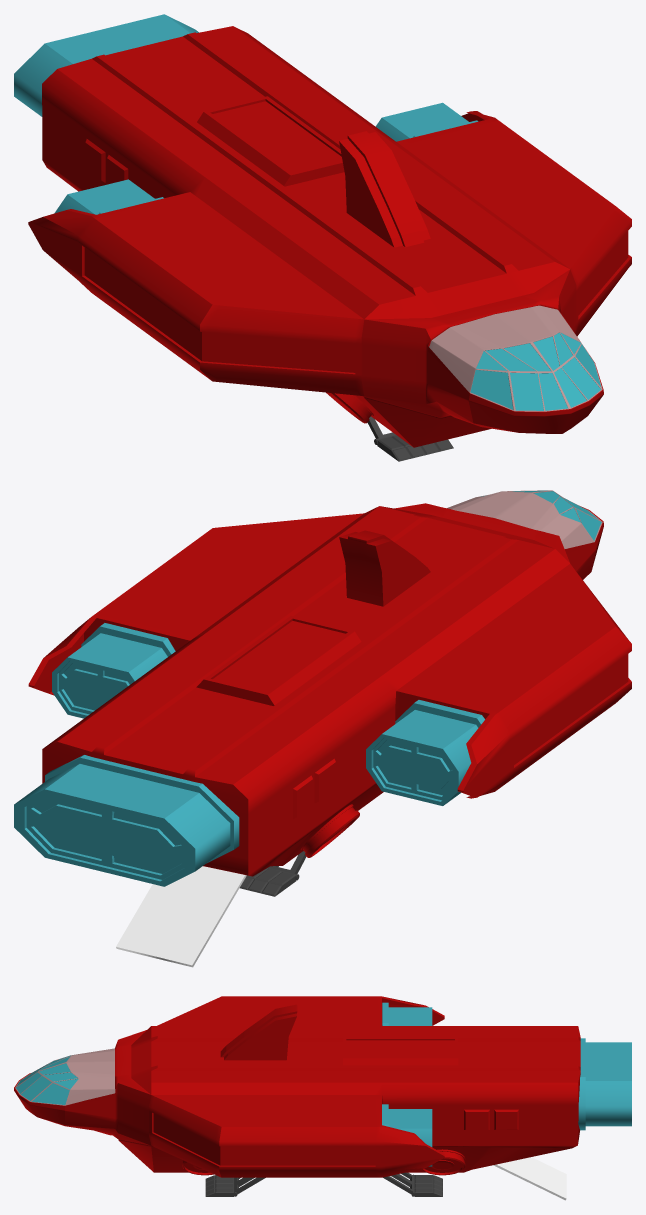
File: SCPs-Wonderer .fbx
3 renders of one model, top to bottom at view 1: azimuth 30°, elevation 25°; view 2: azimuth 150°, elevation 25°; view 3: azimuth 270°, elevation 25°, orthographic. The views are drawn at different scales.
Visible parts, largest first — view 1: transform544, polySurface381, polySurface356.001, polySurface289, polySurface382, polySurface383, pCube200; view 2: transform544, polySurface289, polySurface383, polySurface330.001, polySurface382, polySurface356.001, polySurface381, pCube205; view 3: transform544, polySurface289, polySurface356.001, polySurface381, polySurface330.001, polySurface382, polySurface383, pCube205, pCube200, pCylinder77, pCylinder75.
Boxes of the visible parts, box(x1,y1,x2,y2) form: transform544: box(28, 26, 631, 447); polySurface381: box(470, 332, 601, 410); polySurface356.001: box(429, 305, 602, 411); polySurface289: box(14, 14, 198, 116); polySurface382: box(375, 102, 478, 141); polySurface383: box(54, 179, 163, 214); pCube200: box(377, 435, 453, 461); transform544: box(28, 503, 631, 876); polySurface289: box(14, 755, 239, 886); polySurface383: box(366, 700, 484, 805); polySurface330.001: box(116, 866, 246, 967); polySurface382: box(52, 623, 175, 718); polySurface356.001: box(447, 490, 602, 548); polySurface381: box(481, 490, 601, 540); pCube205: box(240, 868, 296, 896); transform544: box(14, 996, 580, 1177); polySurface289: box(578, 1038, 631, 1130); polySurface356.001: box(15, 1048, 115, 1105); polySurface381: box(16, 1055, 78, 1104); polySurface330.001: box(493, 1157, 566, 1200); polySurface382: box(382, 1104, 432, 1166); polySurface383: box(382, 1002, 432, 1025); pCube205: box(414, 1175, 442, 1196); pCube200: box(205, 1175, 233, 1196); pCylinder77: box(383, 1172, 415, 1196); pCylinder75: box(233, 1177, 265, 1196).
Size of what is drawn, in the model's own units: 308 by 184 by 572.
